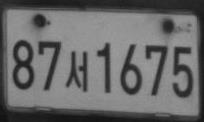1: (93, 42, 117, 94)
5: (172, 45, 194, 98)
6: (119, 43, 142, 95)
7: (144, 44, 168, 96), (37, 40, 61, 91)
8: (12, 38, 35, 90)
서: (65, 50, 88, 92)
